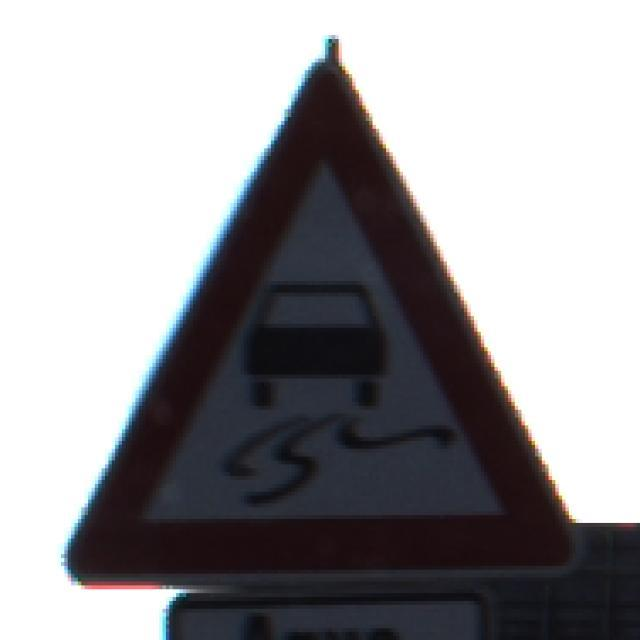slippery road: (61, 61, 578, 576)
